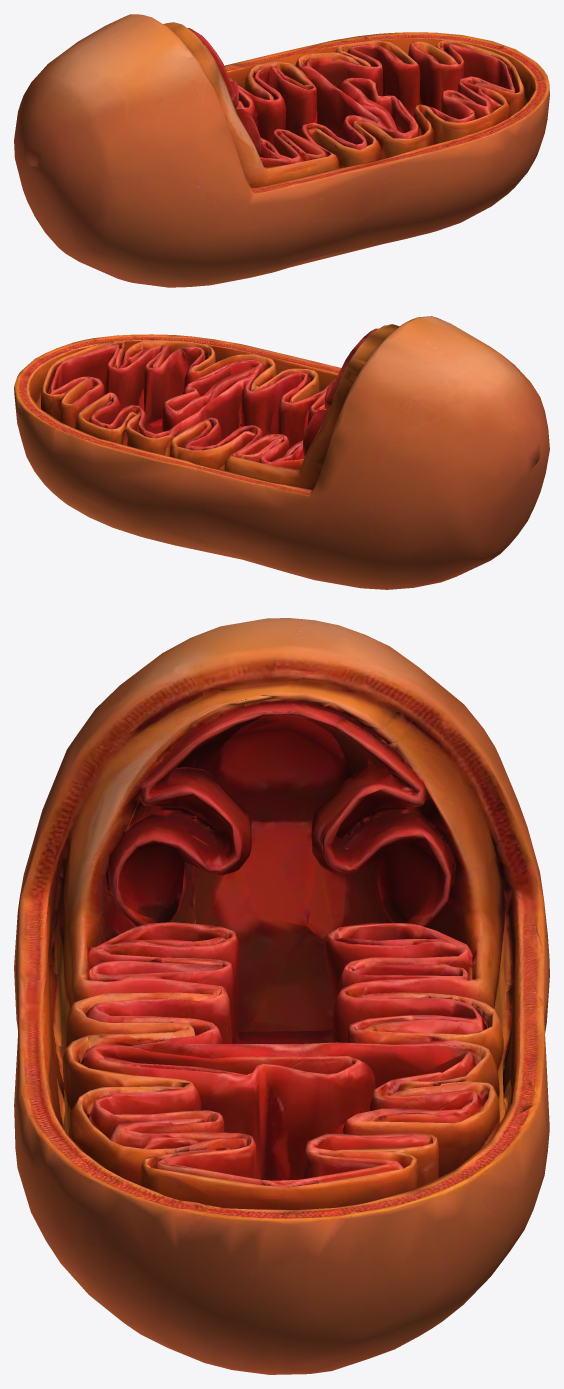
Rendered from mitochondria.glb.
The picture shows the model from 3 angles, top to bottom: view 1: azimuth 30°, elevation 25°; view 2: azimuth 150°, elevation 25°; view 3: azimuth 270°, elevation 25°; orthographic projection. The views are drawn at different scales.
Bounding box in the file's own units: 1.91 × 0.942 × 0.9458.
1 material, 1 textured.
